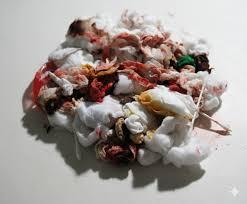cotton: (32, 11, 226, 166), (49, 11, 206, 67), (49, 11, 172, 67), (89, 11, 163, 61), (138, 116, 209, 166), (34, 62, 117, 101), (33, 67, 88, 114), (73, 96, 122, 146), (138, 85, 195, 119), (61, 15, 112, 52), (178, 71, 226, 110), (165, 15, 209, 54), (39, 69, 87, 104), (144, 116, 187, 155), (75, 96, 123, 127), (113, 11, 164, 40), (163, 137, 209, 166), (177, 71, 226, 96), (72, 113, 109, 146), (113, 11, 161, 35), (121, 60, 159, 89), (108, 29, 139, 61), (123, 101, 156, 130), (32, 62, 54, 105), (48, 47, 93, 68), (95, 139, 136, 162), (73, 113, 98, 146), (54, 65, 88, 89), (87, 74, 116, 101), (142, 41, 172, 66), (80, 13, 116, 33), (177, 71, 208, 94), (144, 132, 173, 154), (113, 73, 143, 94), (80, 13, 115, 31), (48, 46, 79, 66), (181, 32, 208, 53), (62, 36, 97, 52), (48, 72, 72, 95), (109, 32, 139, 50), (111, 42, 138, 61), (48, 111, 72, 131), (164, 13, 181, 41), (174, 92, 196, 113), (179, 76, 203, 95), (118, 10, 142, 29), (173, 120, 191, 145), (139, 15, 161, 35), (206, 74, 226, 96), (113, 73, 133, 94), (137, 148, 161, 165), (180, 78, 203, 95), (124, 114, 144, 133), (192, 53, 212, 72), (95, 57, 116, 75), (91, 14, 113, 31), (63, 36, 91, 49), (48, 101, 74, 115), (39, 87, 58, 105), (114, 117, 128, 140), (143, 46, 164, 61), (160, 43, 173, 66), (117, 46, 137, 60), (202, 94, 219, 110), (137, 24, 161, 35), (180, 71, 208, 80), (142, 14, 161, 27), (191, 38, 208, 52), (109, 25, 130, 36), (96, 127, 115, 139), (176, 55, 195, 67), (191, 39, 208, 52), (173, 43, 187, 58), (160, 70, 179, 80), (168, 84, 185, 93), (180, 64, 197, 73), (116, 95, 133, 104), (129, 133, 143, 143), (145, 58, 161, 66), (145, 128, 156, 138), (229, 186, 238, 196), (94, 59, 100, 66)
